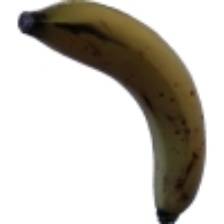banana: (27, 36, 200, 206)
